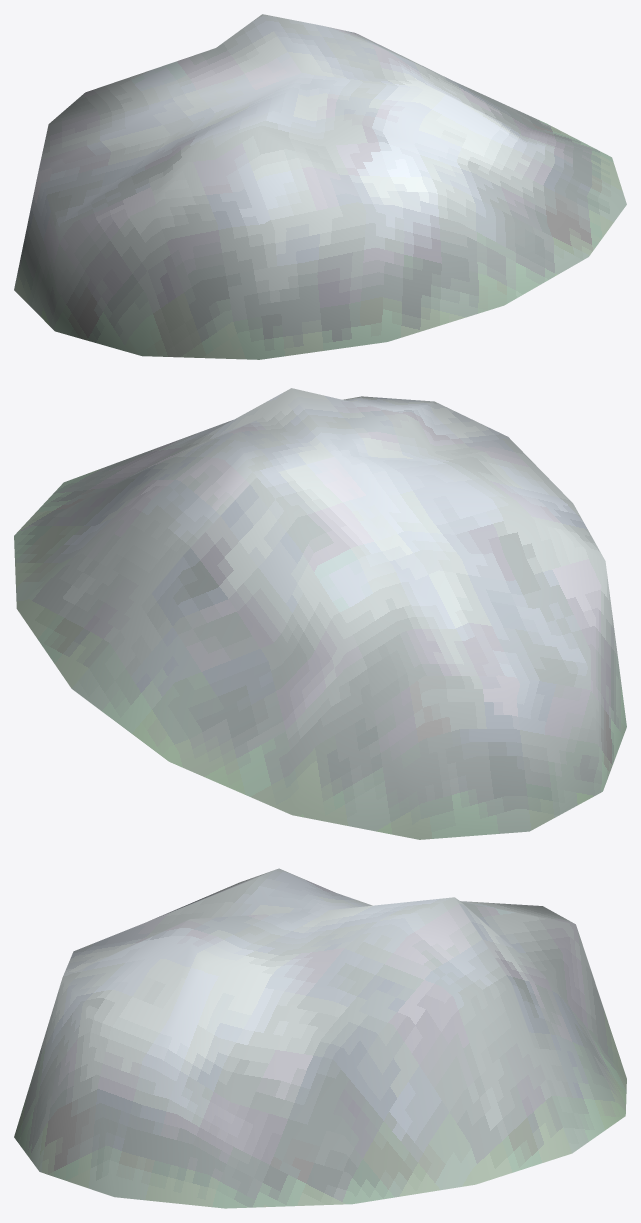
File: TROLLHOLE02_STONEA23.fbx
3 views of the same model, one above another, from view 1: azimuth 30°, elevation 25°; view 2: azimuth 150°, elevation 25°; view 3: azimuth 270°, elevation 25° (orthographic). The views are drawn at different scales.
Visible parts, largest first — view 1: TROLLHOLE02_STONEA23; view 2: TROLLHOLE02_STONEA23; view 3: TROLLHOLE02_STONEA23.
Part boxes in pixels (left/top/right/bottom): TROLLHOLE02_STONEA23: left=14, top=14, right=626, bottom=359; TROLLHOLE02_STONEA23: left=14, top=388, right=626, bottom=839; TROLLHOLE02_STONEA23: left=14, top=868, right=626, bottom=1208.
Size of the model in its own units: 12467 by 5413 by 10993.
1 material, 1 textured.
